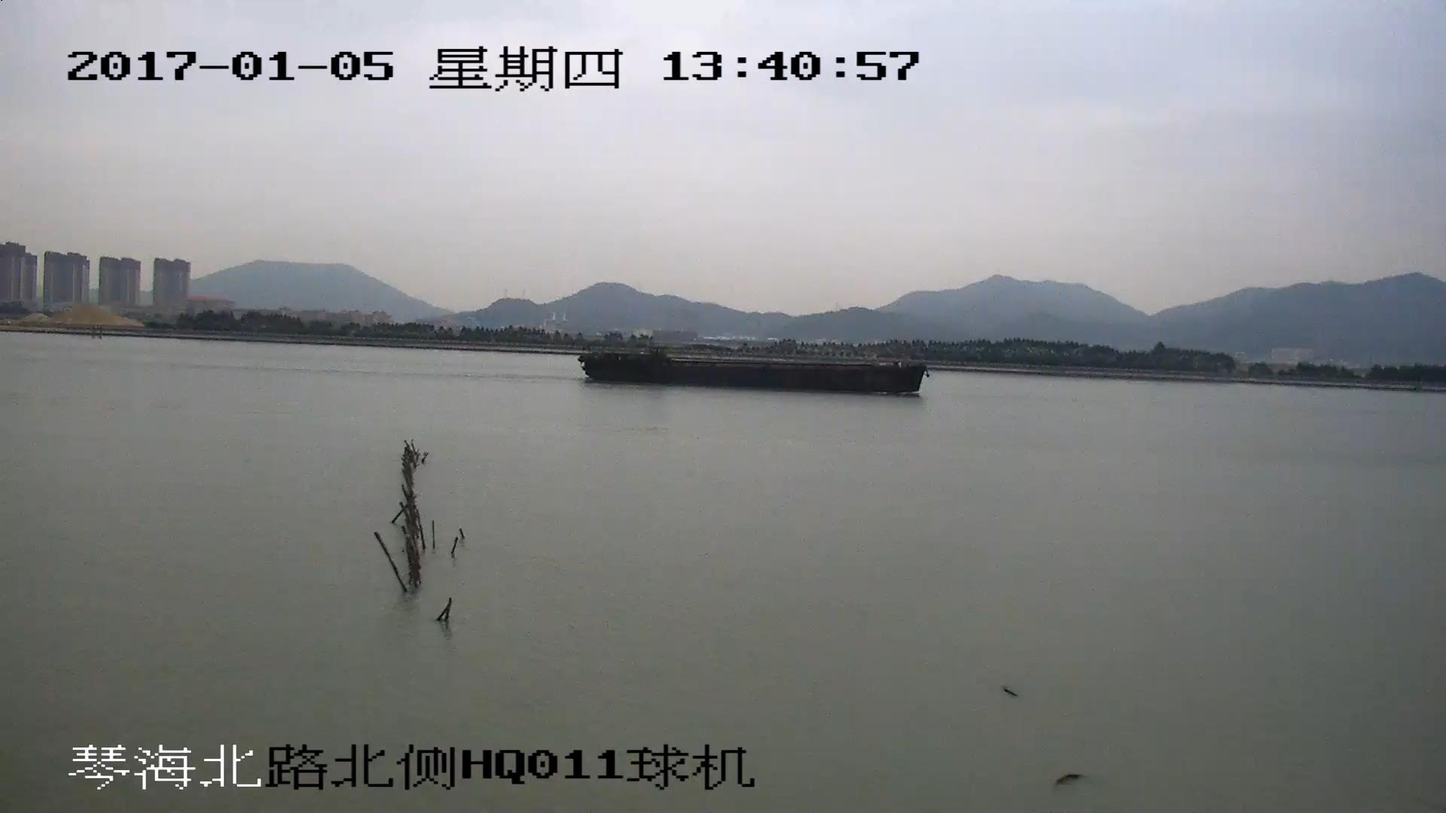bulk cargo carrier: (579, 346, 929, 394)
